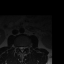CCS_normal: (21, 44, 23, 54)
LFS_normal: (25, 44, 27, 50)
LLS_normal: (23, 44, 25, 51)
RFS_stenosis: (17, 44, 19, 50)
RLS_normal: (19, 45, 21, 51)
